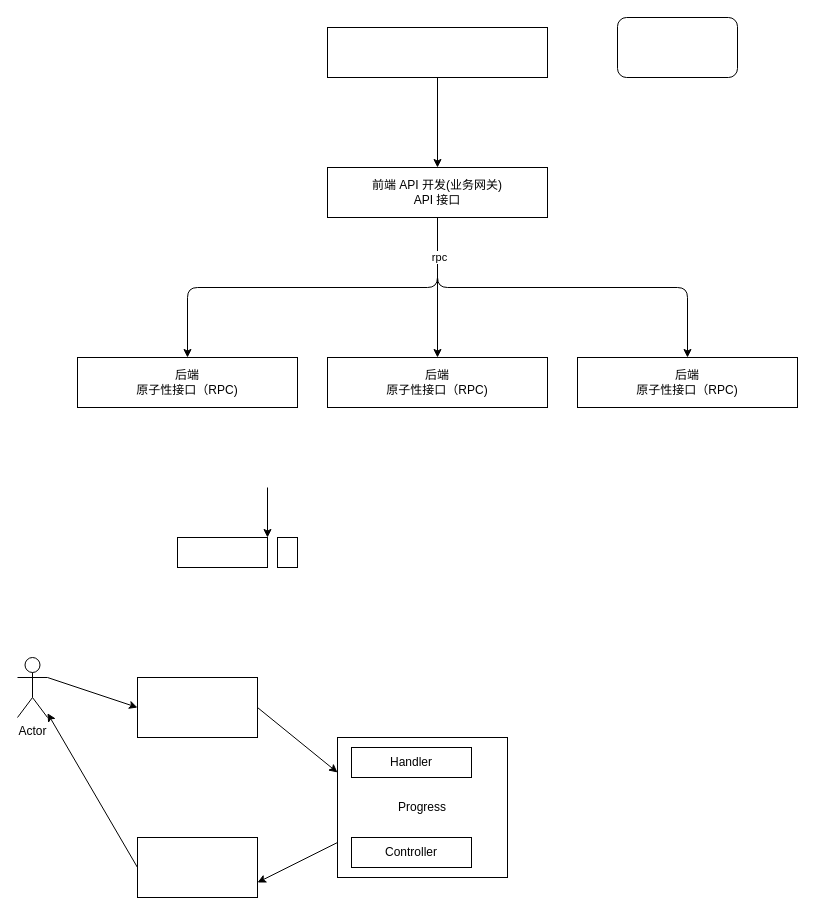
Some shapes in this 815 by 915 pixel diagram are drawn without their labels. The shapes that lost their labels are listed below. From the top down, each one's centre as x and y in pixels, then its label:
At point (437, 52): "前端".
At point (677, 47): "页面所需要的数据 综合".
At point (197, 707): "Request（struct)".
At point (197, 867): "Response（struct)".
